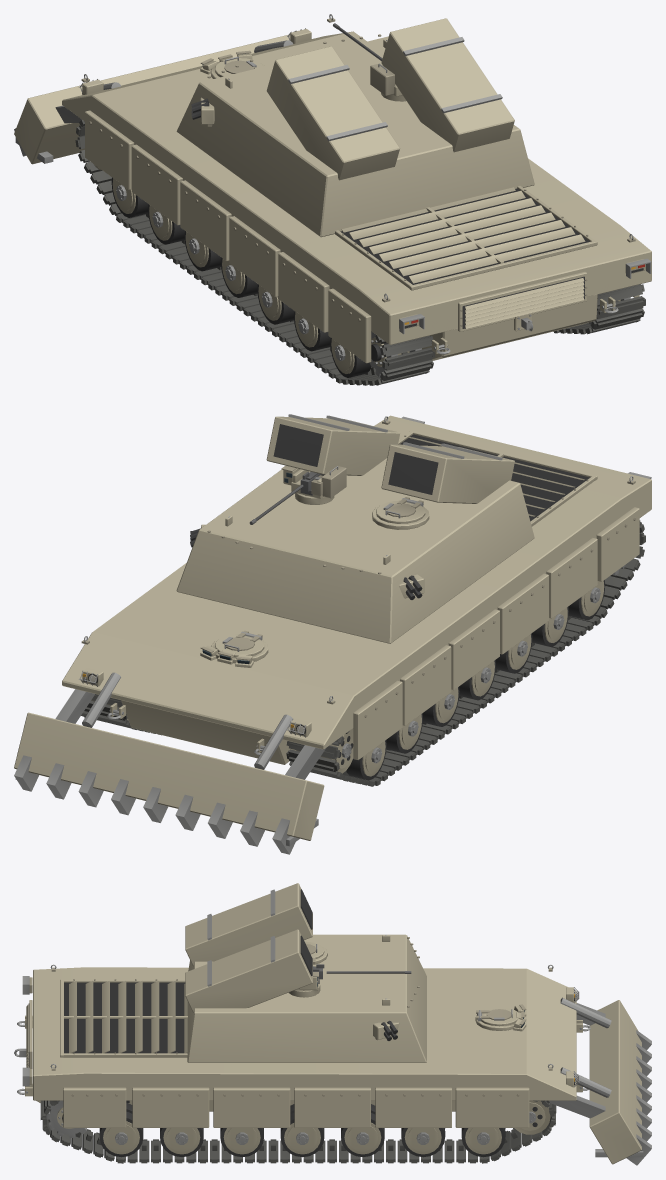
Rendered from usa_eng_abv.glb.
The picture shows the model from 3 angles, top to bottom: view 1: azimuth 30°, elevation 25°; view 2: azimuth 150°, elevation 25°; view 3: azimuth 270°, elevation 25°; orthographic projection. The views are drawn at different scales.
Parts seen in each view (by area): view 1: body, turret, barrel; view 2: body, turret, barrel; view 3: body, turret, barrel.
Part boxes in pixels (x1=…): body: x1=14, y1=14, x2=651, y2=385; turret: x1=176, y1=23, x2=534, y2=237; barrel: x1=266, y1=18, x2=514, y2=180; body: x1=14, y1=415, x2=651, y2=854; turret: x1=176, y1=458, x2=534, y2=643; barrel: x1=266, y1=414, x2=514, y2=503; body: x1=14, y1=964, x2=651, y2=1165; turret: x1=187, y1=934, x2=426, y2=1062; barrel: x1=185, y1=883, x2=312, y2=1012.
Size of the model in its own units: 3.9 by 3.13 by 9.3.
